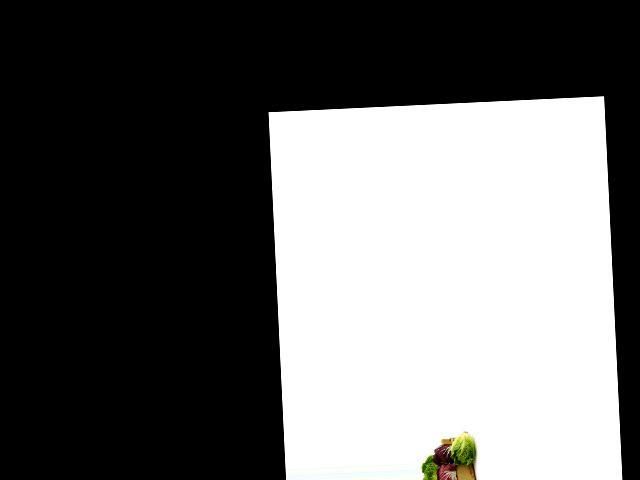lettuce: (420, 454, 443, 480)
